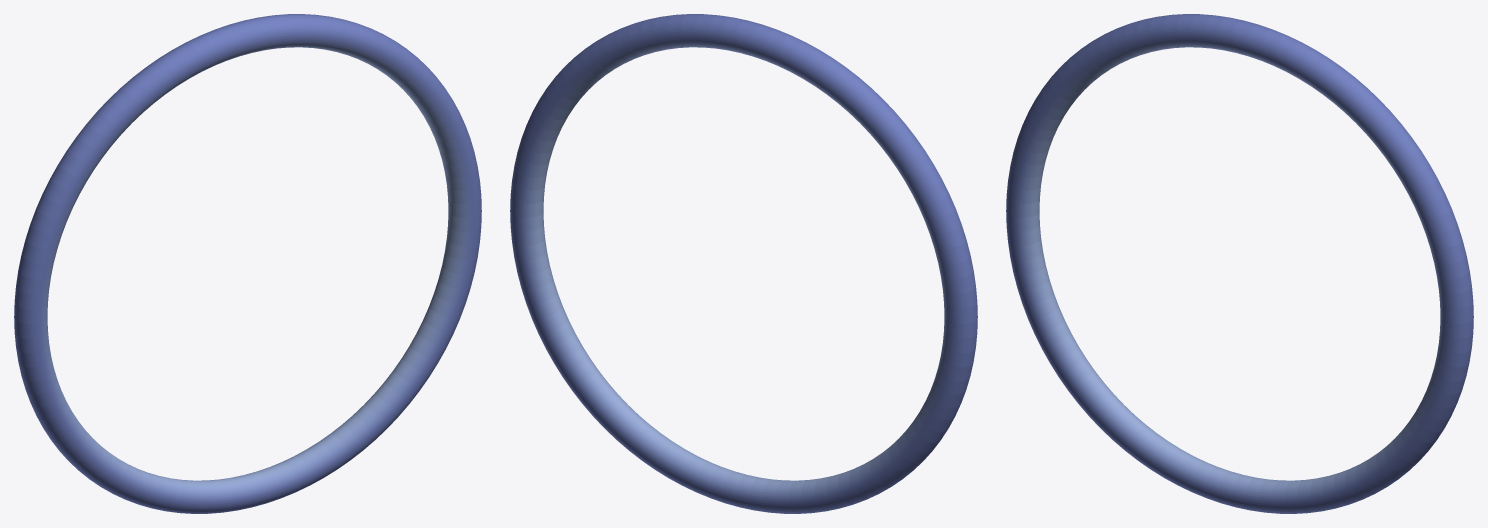
3 views of the same model, side by side, from view 1: azimuth 30°, elevation 25°; view 2: azimuth 150°, elevation 25°; view 3: azimuth 330°, elevation 25° (orthographic).
Parts seen in each view (by area): view 1: world; view 2: world; view 3: world.
Boxes of the visible parts, x1=… form: world: x1=14, y1=14, x2=481, y2=513; world: x1=510, y1=14, x2=977, y2=513; world: x1=1006, y1=14, x2=1473, y2=513.
Bounding box in the file's own units: 32 × 32 × 2.
